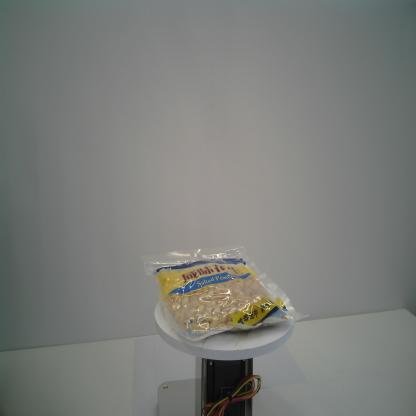Dried Fruit: (141, 243, 310, 343)
